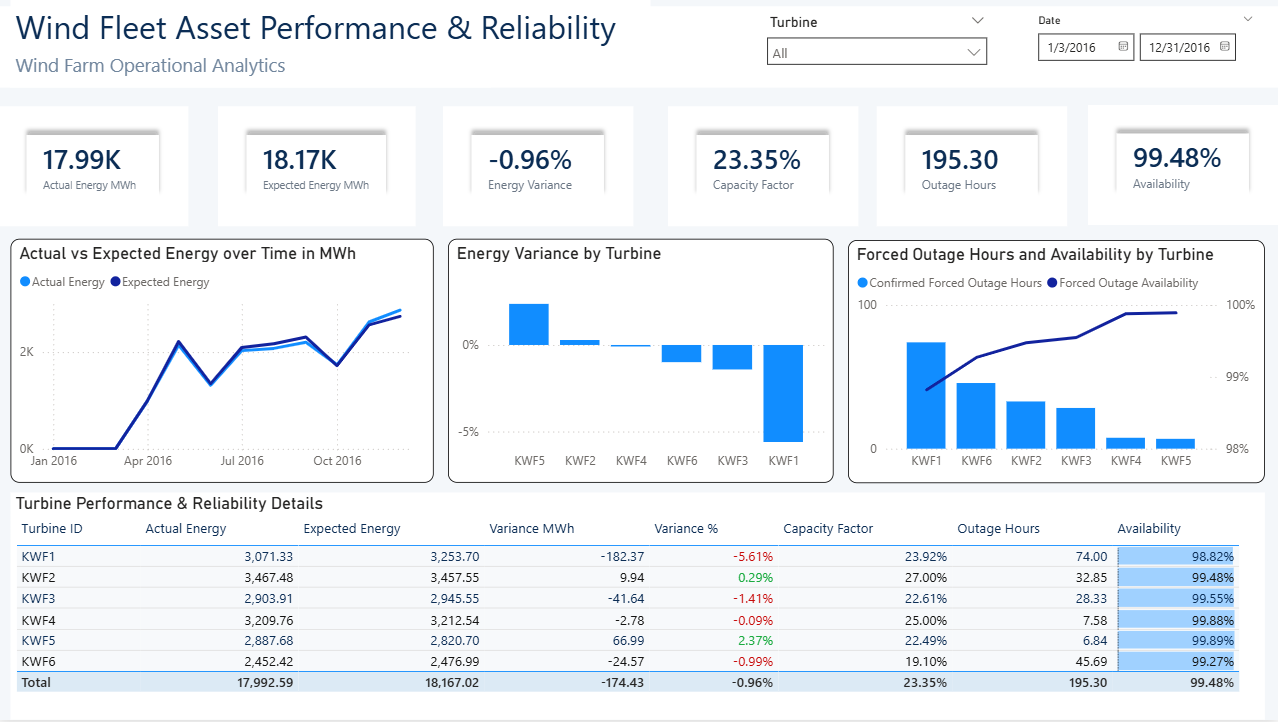

This screenshot's page, from the dashboard's own definition file:
{"tool":"powerbi","page":{"name":"Page 1","canvas":[1280,720],"ordinal":0},"visuals":[{"type":"cardVisual","title":"Actual Energy","fields":{"Data":["My_Measures.Total Actual Energy MWh"]},"box":[0,105.7,190,120],"z":0},{"type":"cardVisual","fields":{"Data":["My_Measures.Total Expected Energy MWh"]},"box":[220,106.2,197.5,120],"z":1000},{"type":"cardVisual","fields":{"Data":["My_Measures.Energy Variance %"]},"box":[445,105.7,190,120],"z":2000},{"type":"cardVisual","title":"Actual Energy","fields":{"Data":["My_Measures.Average Capacity Factor"]},"box":[670,105.7,190,120],"z":3000},{"type":"cardVisual","fields":{"Data":["My_Measures.Confirmed Forced Outage Hours"]},"box":[878.6,105.7,190,120],"z":4000},{"type":"cardVisual","fields":{"Data":["My_Measures.Forced Outage Availability"]},"box":[1090,105,190,120],"z":5000},{"type":"shape","box":[0,5.7,1280,81.4],"z":6000},{"type":"textbox","box":[12.9,0,640,54.3],"z":7000},{"type":"textbox","box":[12.9,47.1,480,40],"z":8000},{"type":"lineChart","title":"Actual vs Expected Energy over Time in MWh","fields":{"Category":["FACT_TURBINE_DAILY_PERFORMANCE.PERFORMANCE_DATE.Variation.Date Hierarchy.Year","FACT_TURBINE_DAILY_PERFORMANCE.PERFORMANCE_DATE.Variation.Date Hierarchy.Quarter","FACT_TURBINE_DAILY_PERFORMANCE.PERFORMANCE_DATE.Variation.Date Hierarchy.Month"],"Y":["My_Measures.Total Actual Energy MWh"],"Y2":["My_Measures.Total Expected Energy MWh"]},"box":[12.9,238.6,422.9,244.3],"z":9000},{"type":"clusteredColumnChart","title":"Energy Variance by Turbine","fields":{"Category":["DIM_TURBINE.TURBINE_ID"],"Y":["My_Measures.Energy Variance %"]},"box":[450,238.6,385.7,244.3],"z":10000},{"type":"lineClusteredColumnComboChart","title":"Forced Outage Hours and Availability by Turbine","fields":{"Category":["DIM_TURBINE.TURBINE_ID"],"Y":["My_Measures.Confirmed Forced Outage Hours"],"Y2":["My_Measures.Forced Outage Availability"]},"box":[850,240,417.1,242.9],"z":11000},{"type":"slicer","fields":{"Values":["DIM_TURBINE.TURBINE_ID"]},"box":[758.6,8.6,240,67.1],"z":12000},{"type":"slicer","fields":{"Values":["FACT_TURBINE_DAILY_PERFORMANCE.PERFORMANCE_DATE"]},"box":[1027.1,8.6,240,67.1],"z":13000},{"type":"tableEx","title":"Turbine Performance & Reliability Details","fields":{"Values":["DIM_TURBINE.TURBINE_ID","My_Measures.Total Actual Energy MWh","My_Measures.Total Expected Energy MWh","My_Measures.Energy Variance MWh","My_Measures.Energy Variance %","My_Measures.Average Capacity Factor","My_Measures.Confirmed Forced Outage Hours","My_Measures.Forced Outage Availability"]},"box":[12.9,492.9,1254.3,227.1],"z":14000}]}

Visuals, with their boxes in screenshot pixels (x1, y1, x2, y2), scaled from the page's 1280x720 canvas onto the 1278x722 screenshot:
"Actual Energy" cardVisual: 0:106:190:226
cardVisual - My_Measures.Total Expected Energy MWh: 220:106:417:227
cardVisual - My_Measures.Energy Variance %: 444:106:634:226
"Actual Energy" cardVisual: 669:106:859:226
cardVisual - My_Measures.Confirmed Forced Outage Hours: 877:106:1067:226
cardVisual - My_Measures.Forced Outage Availability: 1088:105:1277:226
shape: 0:6:1277:87
textbox: 13:0:652:54
textbox: 13:47:492:87
"Actual vs Expected Energy over Time in MWh" lineChart: 13:239:435:484
"Energy Variance by Turbine" clusteredColumnChart: 449:239:834:484
"Forced Outage Hours and Availability by Turbine" lineClusteredColumnComboChart: 849:241:1265:484
slicer - DIM_TURBINE.TURBINE_ID: 757:9:997:76
slicer - FACT_TURBINE_DAILY_PERFORMANCE.PERFORMANCE_DATE: 1025:9:1265:76
"Turbine Performance & Reliability Details" tableEx: 13:494:1265:721
